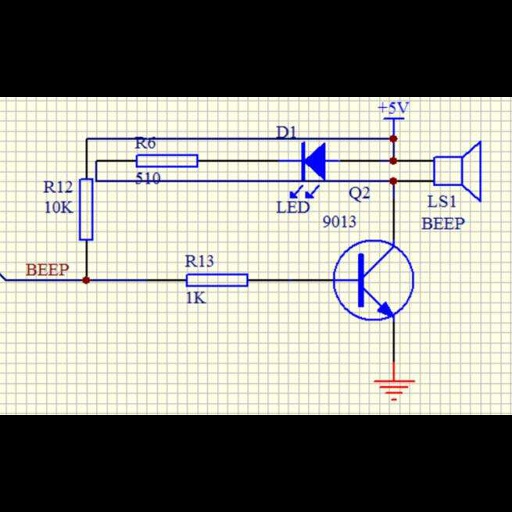firstled: (289, 139, 329, 202)
firstresistance: (74, 176, 96, 244), (180, 270, 253, 289), (133, 151, 204, 170)
loudspeaker: (432, 139, 487, 203)
npn: (348, 249, 397, 317)
